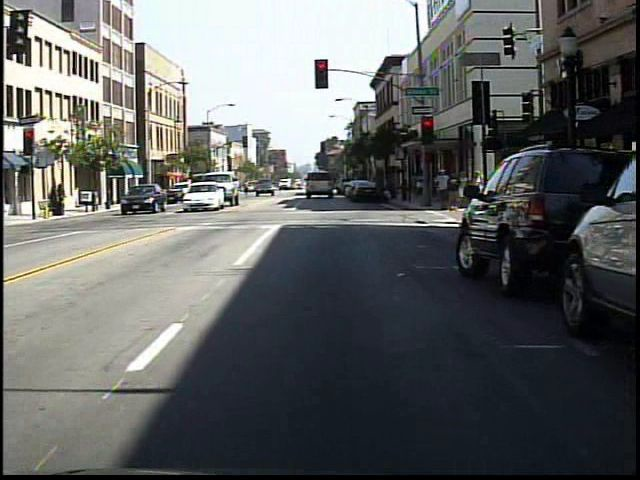person: (433, 165, 452, 207), (469, 166, 487, 209), (410, 166, 428, 202), (447, 168, 461, 214), (456, 169, 471, 208), (237, 173, 254, 202)
